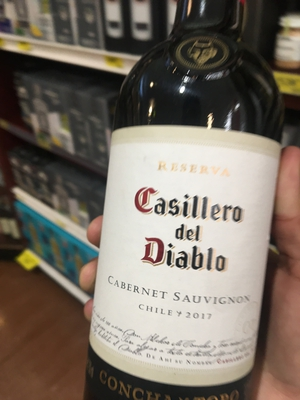casillero del diablo cabernet sauvignon: (87, 16, 297, 400)
